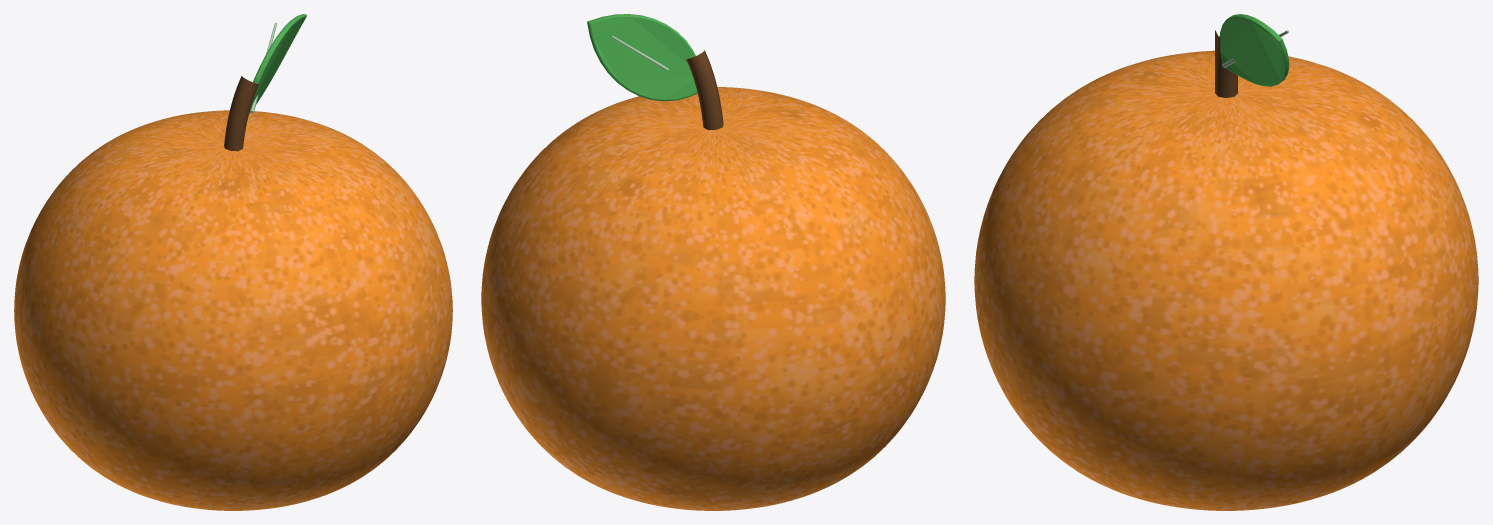
Rendered from clementine.glb.
3 renders of one model, left to right at view 1: azimuth 30°, elevation 25°; view 2: azimuth 150°, elevation 25°; view 3: azimuth 270°, elevation 25°, orthographic. The views are drawn at different scales.
Bounding box in the file's own units: 0.1501 × 0.1602 × 0.1501.
4 materials, 1 textured.
